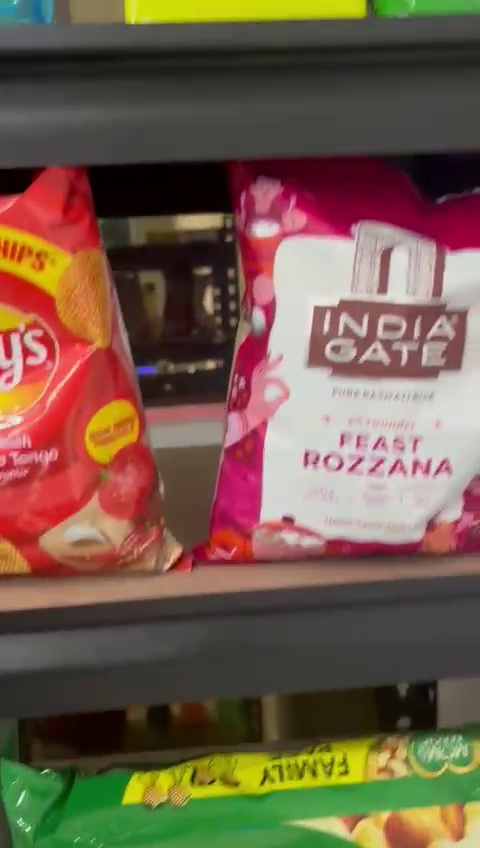India Gate Feast Rozzana: (210, 160, 480, 559)
